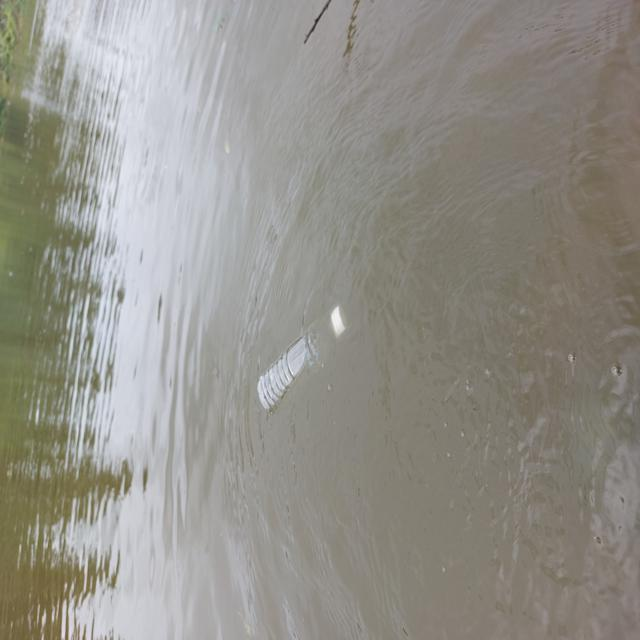waterbottle: (250, 306, 354, 406), (418, 416, 420, 417)
